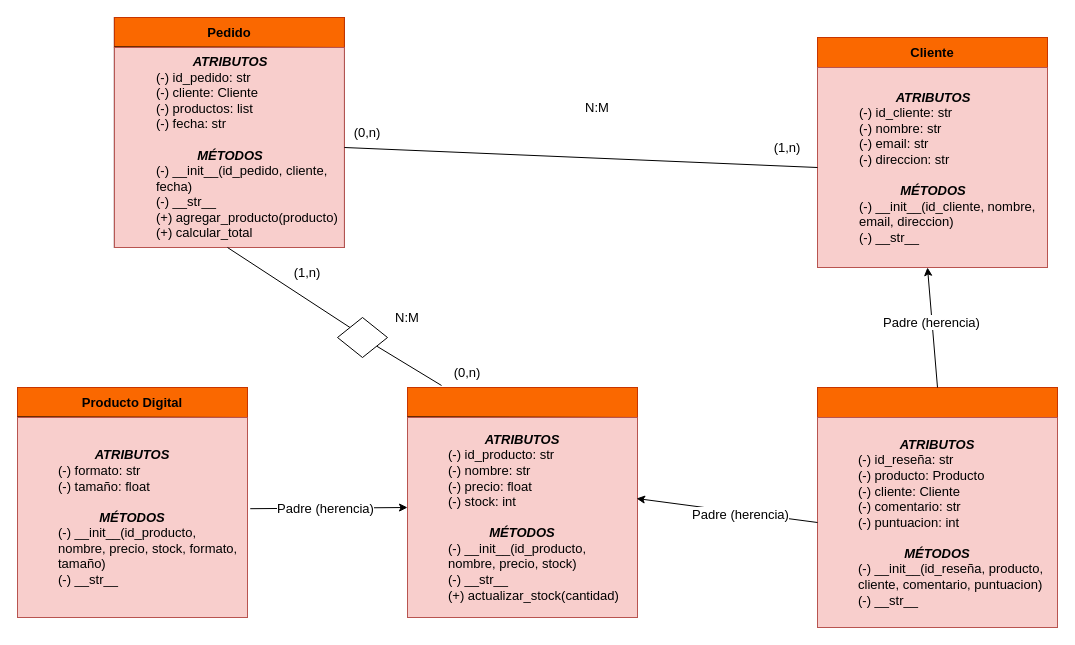
Image size: 1075x645. Some labels were removed from this diagram. Here are the shapes that lost their labels. From the top down, the centre of each, then its label:
At point 522,402: "Producto".
At point 937,402: "Reseña".
